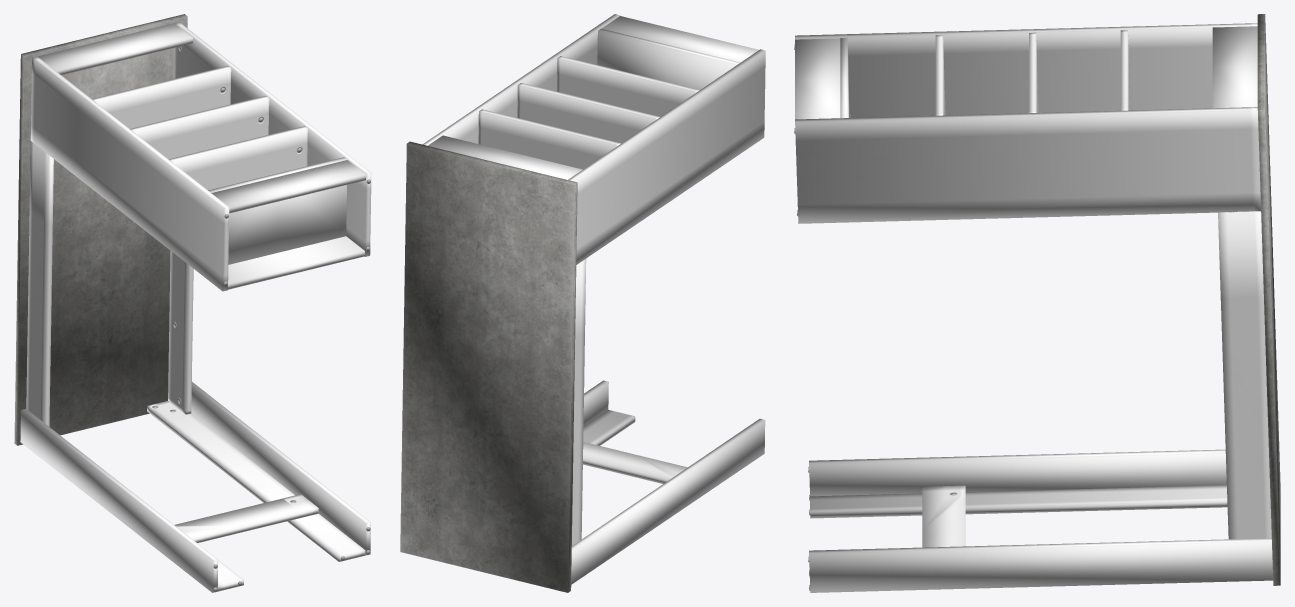
File: kitchen4.glb
The picture shows the model from 3 angles, left to right: view 1: azimuth 30°, elevation 25°; view 2: azimuth 150°, elevation 25°; view 3: azimuth 270°, elevation 25°; orthographic projection. The views are drawn at different scales.
Parts seen in each view (by area): view 1: #TBL0004_Bar_Table_(115cm)_0; view 2: #TBL0004_Bar_Table_(115cm)_0; view 3: #TBL0004_Bar_Table_(115cm)_0.
Part boxes in pixels (x1,y1,x2,y2): #TBL0004_Bar_Table_(115cm)_0: [14, 14, 371, 592]; #TBL0004_Bar_Table_(115cm)_0: [400, 14, 765, 592]; #TBL0004_Bar_Table_(115cm)_0: [794, 14, 1280, 592].
Bounding box in the file's own units: 0.5 × 1.17 × 1.07.
1 material, 1 textured.
